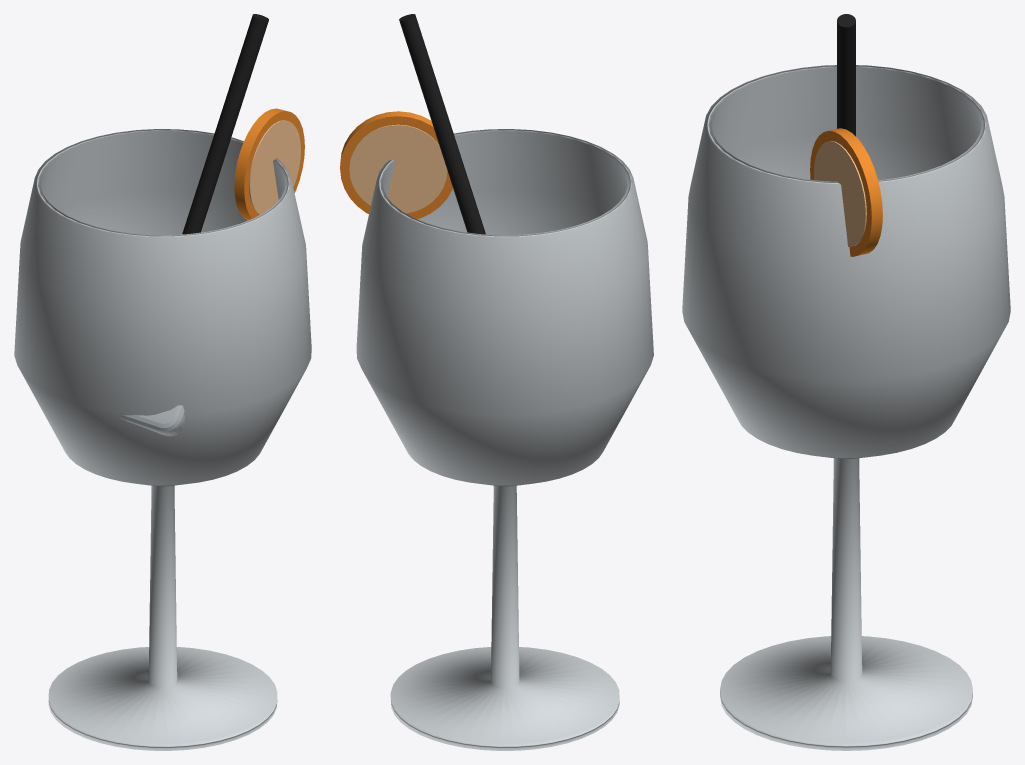
The model's file is bibite-campari-spritz.glb.
The picture shows the model from 3 angles, left to right: view 1: azimuth 30°, elevation 25°; view 2: azimuth 150°, elevation 25°; view 3: azimuth 270°, elevation 25°; orthographic projection. The views are drawn at different scales.
Size of the model in its own units: 0.1139 by 0.2558 by 0.104.
